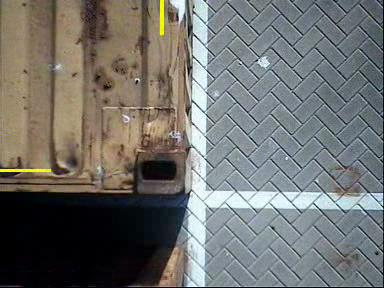groundmarker_2: (198, 168, 229, 210), (201, 1, 231, 42)
